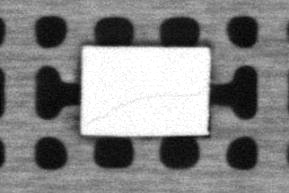DIE_CRACK: (85, 91, 201, 124)
